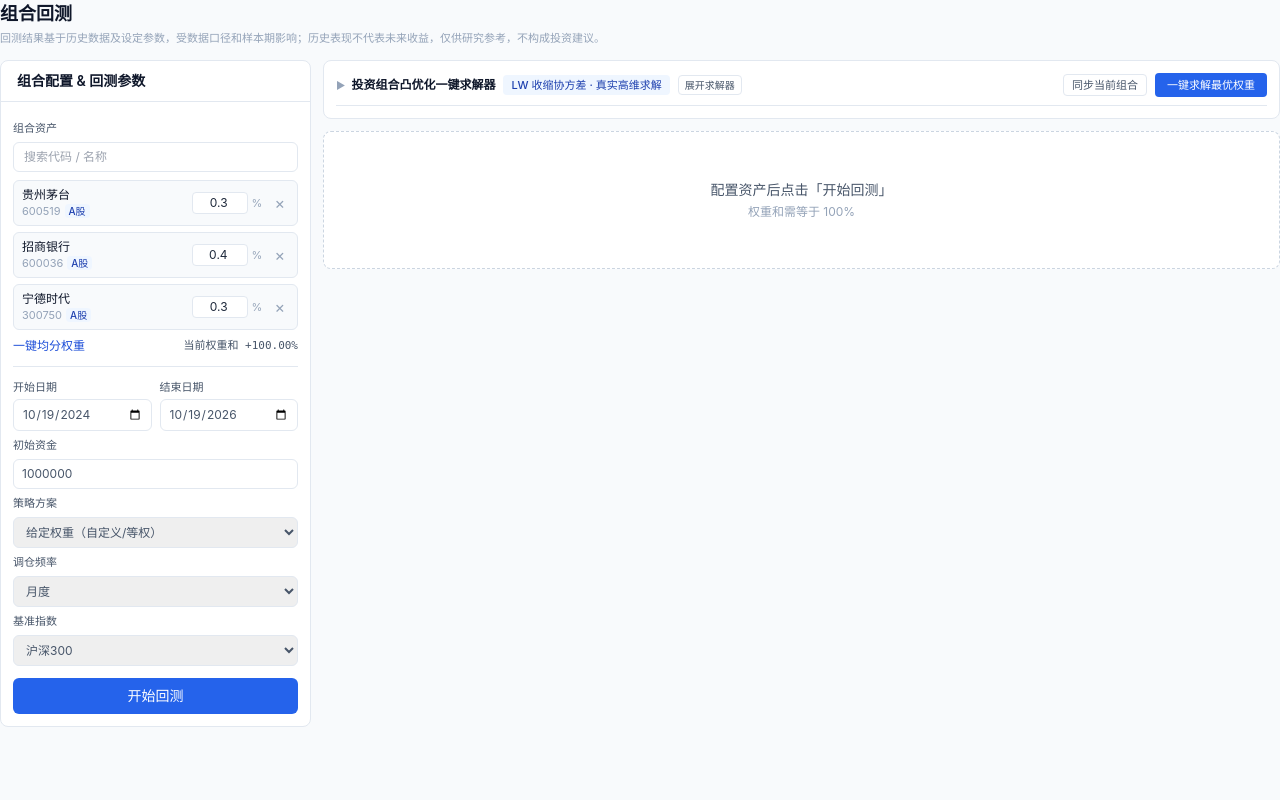
Test: PortfolioBacktest Workbench › 初始正确渲染并支持发起回测
expect the heading "组合回测" is shown: met, box [0,3,72,24]
expect the heading "组合配置 & 回测参数" is shown: met, box [17,71,145,91]
What coordinates should you click on to do the following:
click the button "开始回测"
I would click on:
 (156, 696)
Its box is [13,678,298,714].
(page scrolled)
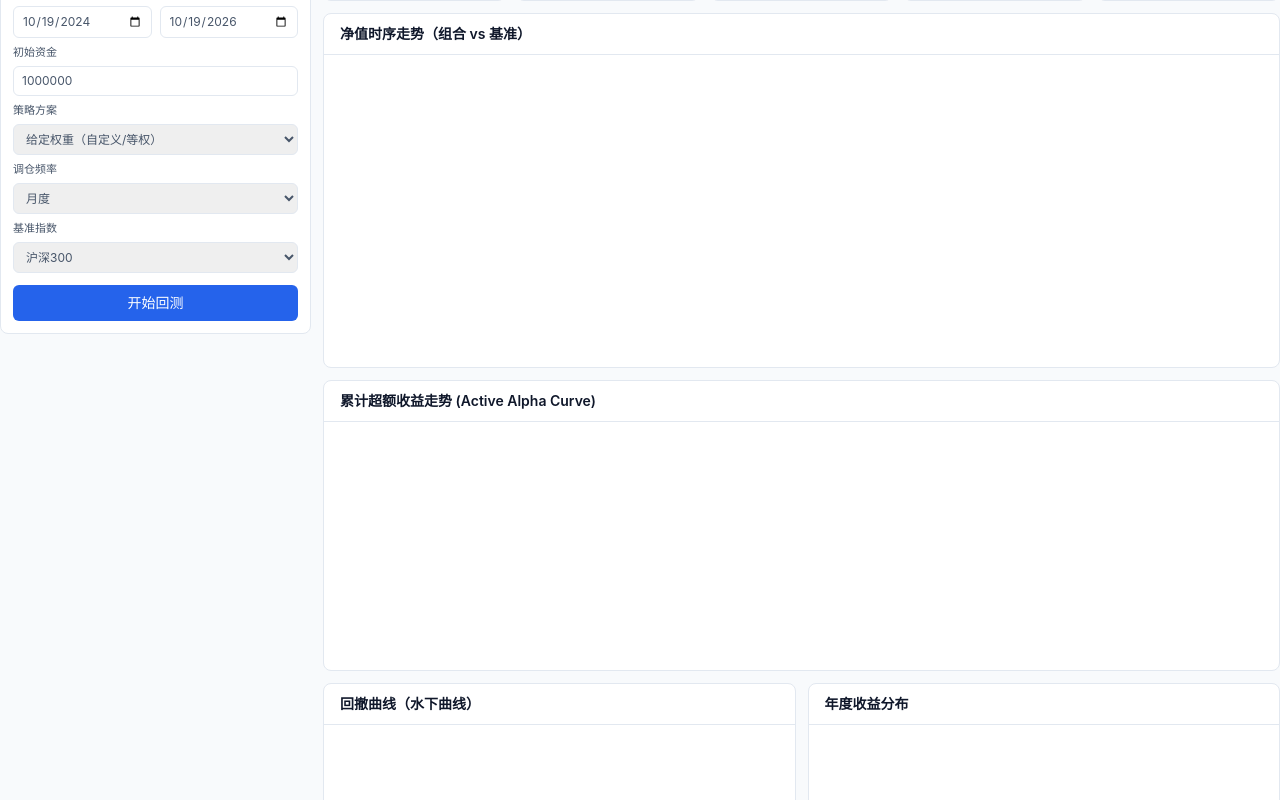
expect the heading "累计超额收益走势 (Active Alpha Curve)" is shown: met, box [340,391,596,411]
